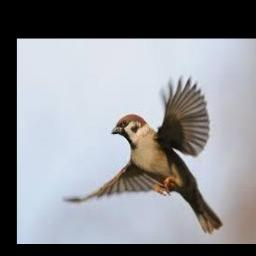Sparrow: (62, 75, 223, 234)
